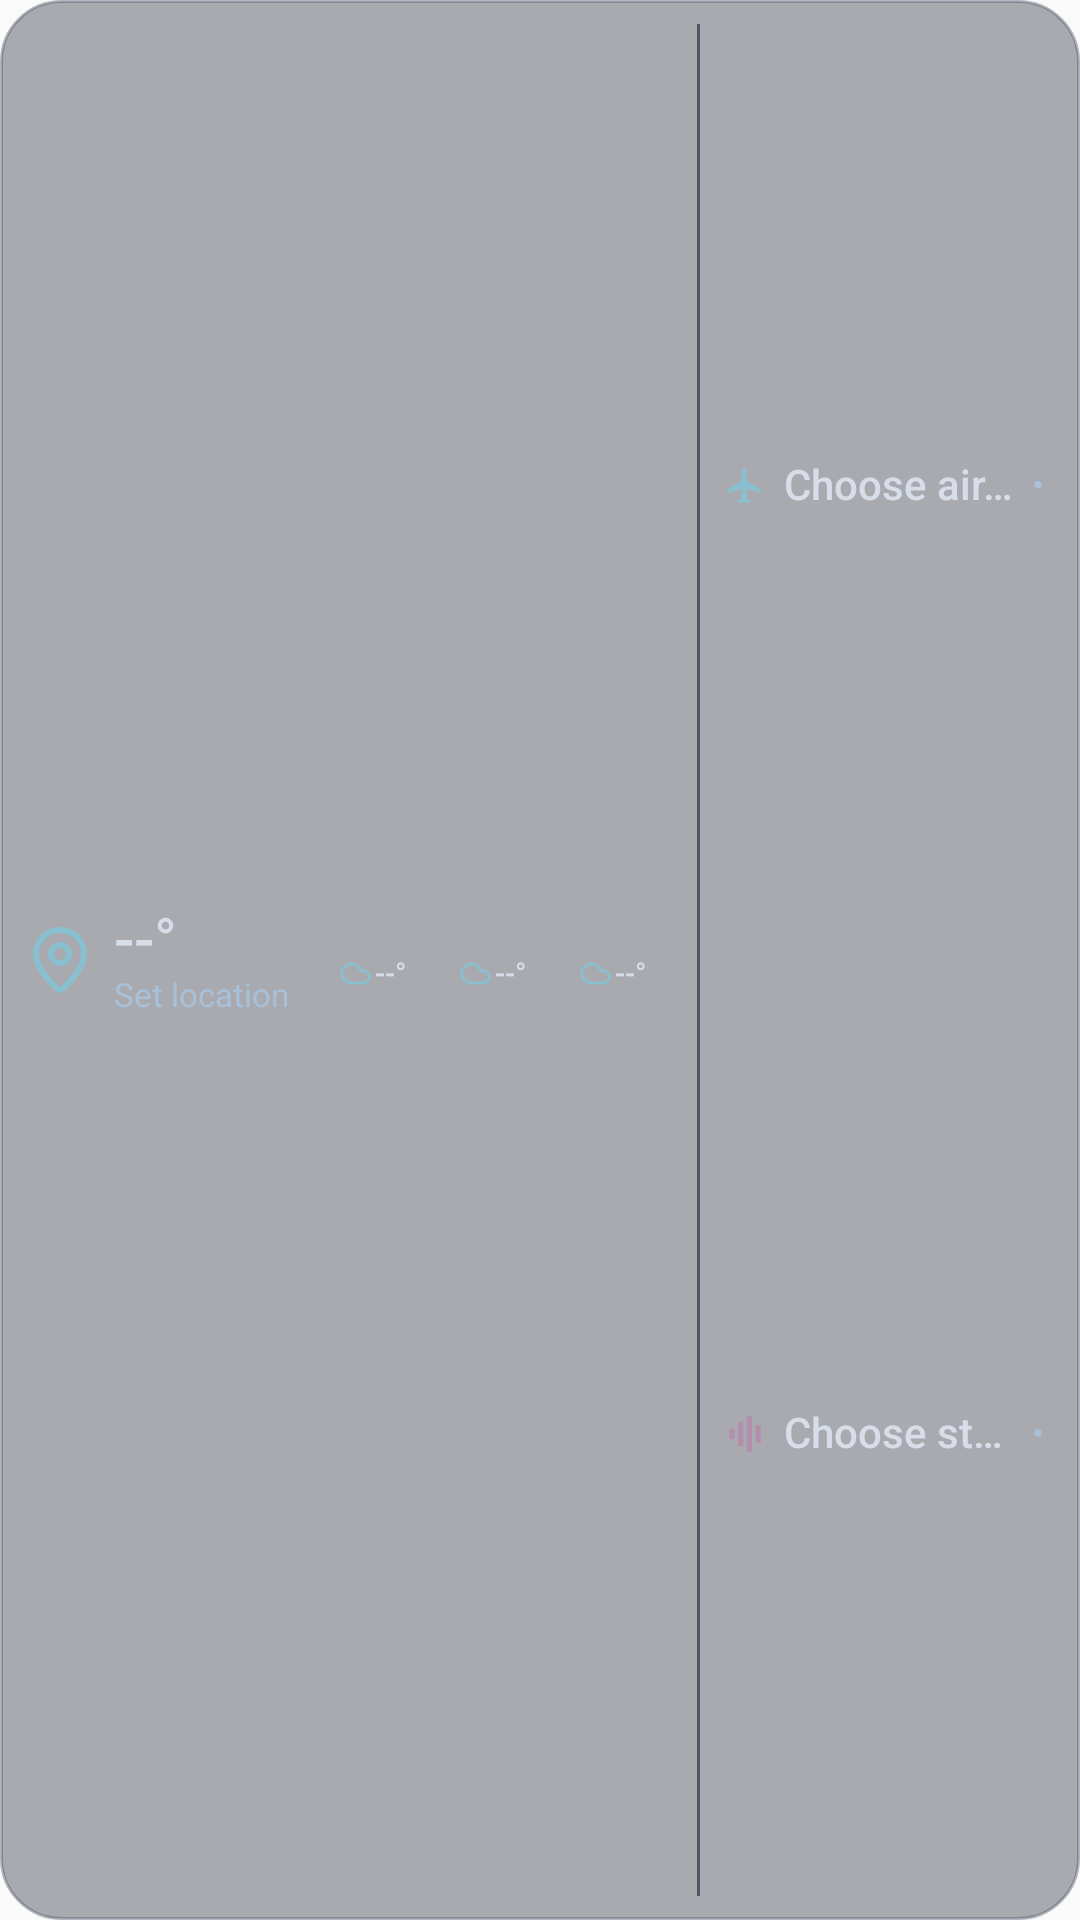

Screen size 1080 × 1920. Icon name, then its center in pixels as point (x, y):
widget airport: point (744, 486)
widget radio: point (745, 1434)
widget weather cloudy: point (355, 973), point (475, 973), point (595, 973)
widget weather location: point (60, 960)
